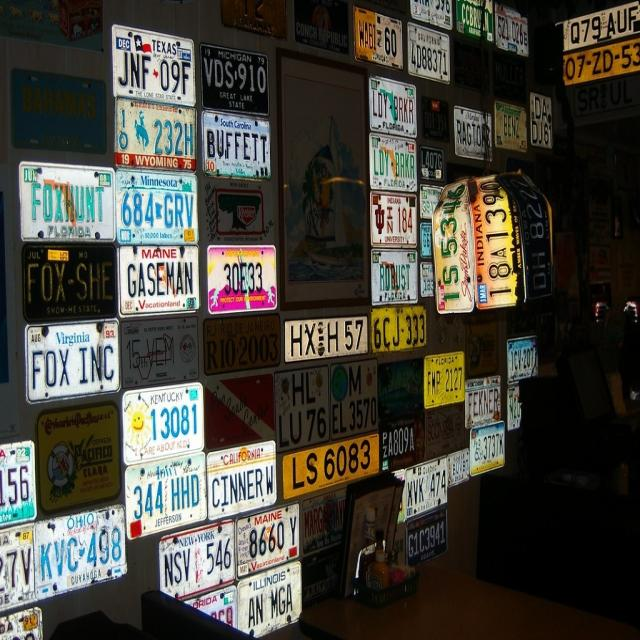Plaque: (17, 160, 112, 244), (0, 528, 129, 586), (280, 434, 381, 500), (26, 328, 120, 397), (116, 171, 198, 244), (115, 31, 192, 100), (119, 247, 199, 313), (126, 396, 204, 460), (209, 243, 275, 314), (202, 46, 270, 110), (203, 115, 273, 175), (126, 472, 206, 524), (115, 111, 193, 164), (205, 458, 278, 510), (285, 318, 368, 363), (160, 540, 236, 589), (238, 516, 301, 570), (372, 309, 428, 350)
